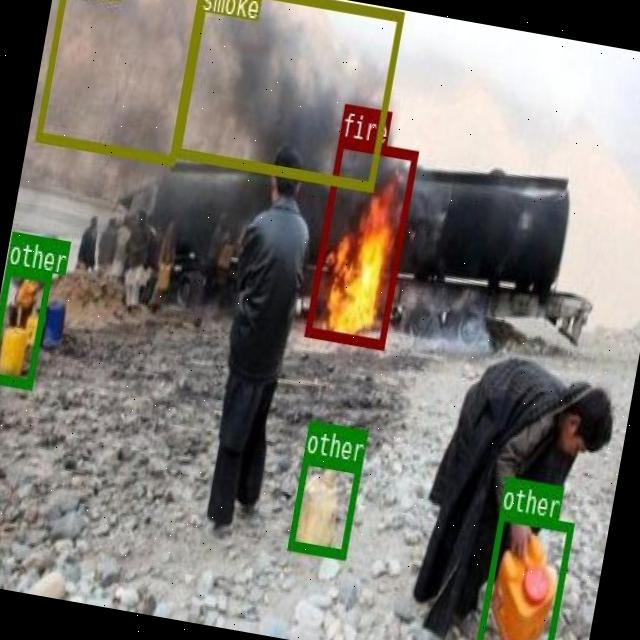fire: (304, 136, 418, 348)
smoke: (172, 0, 402, 190), (34, 0, 204, 162)
